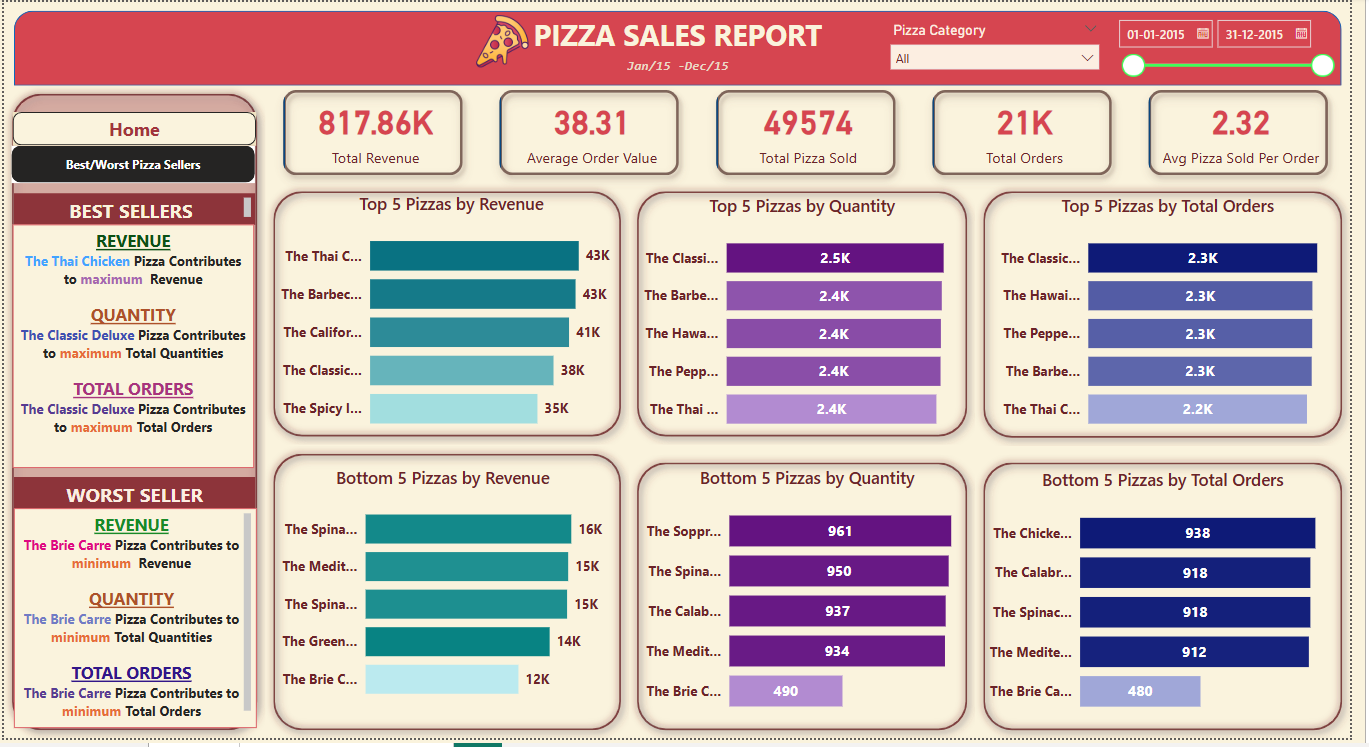

Layout of this report page (visuals, bound fields, positions):
{"tool":"powerbi","page":{"name":"Best/Worst Pizza Sellers","canvas":[1500,820],"ordinal":1},"visuals":[{"type":"shape","box":[11.1,9.7,1479,83.6],"z":0},{"type":"textbox","box":[523.6,9.7,454,58.5],"z":1000},{"type":"image","box":[491.6,9.7,126.7,68.2],"z":2000},{"type":"textbox","box":[604.4,57.1,292.5,43.2],"z":3000},{"type":"cardVisual","fields":{"Data":["pizza_sales.Total Revenue","pizza_sales.Average Order Value","pizza_sales.Total Pizza Sold","pizza_sales.Total Orders","pizza_sales.Avg Pizza Sold Per Order"]},"box":[291.1,78,1208.8,135.1],"z":4000},{"type":"shape","box":[291.1,201.9,405.3,291.1],"z":5000},{"type":"shape","box":[0,93.3,291.1,727],"z":6000},{"type":"textbox","box":[11.1,213.1,268.8,34.8],"z":7000},{"type":"textbox","box":[9.7,247.9,268.8,271.6],"z":8000},{"type":"textbox","box":[11.1,529.2,268.8,46],"z":9000},{"type":"textbox","box":[11.1,564,270.2,245.1],"z":10000},{"type":"slicer","fields":{"Values":["pizza_sales.pizza_category"]},"box":[977.7,18.1,252.1,59.9],"z":11000},{"type":"slicer","fields":{"Values":["pizza_sales.order_date"]},"box":[1229.7,9.7,260.4,105.8],"z":12000},{"type":"shape","box":[696.3,201.9,385.8,291.1],"z":13000},{"type":"shape","box":[1082.1,201.9,417.8,292.5],"z":14000},{"type":"shape","box":[291.1,494.4,405.3,325.9],"z":15000},{"type":"shape","box":[696.3,504.1,385.8,316.1],"z":16000},{"type":"shape","box":[1082.1,504.1,417.8,316.1],"z":17000},{"type":"barChart","title":"Top 5 Pizzas by Revenue","fields":{"Category":["pizza_sales.pizza_name"],"Y":["pizza_sales.Total Revenue"]},"box":[291.1,211.7,415,281.3],"z":18000},{"type":"barChart","title":"Bottom 5 Pizzas by Revenue","fields":{"Category":["pizza_sales.pizza_name"],"Y":["pizza_sales.Total Revenue"]},"box":[291.1,516.7,395.5,277.1],"z":19000},{"type":"barChart","title":"Top 5 Pizzas by Quantity","fields":{"Category":["pizza_sales.pizza_name"],"Y":["pizza_sales.Total Pizza Sold"]},"box":[696.3,214.5,385.8,278.5],"z":20000},{"type":"barChart","title":"Bottom 5 Pizzas by Quantity","fields":{"Category":["pizza_sales.pizza_name"],"Y":["pizza_sales.Total Pizza Sold"]},"box":[696.3,516.7,396.9,292.5],"z":21000},{"type":"barChart","title":"Top 5 Pizzas by Total Orders","fields":{"Category":["pizza_sales.pizza_name"],"Y":["pizza_sales.Total Orders"]},"box":[1093.2,214.5,406.7,278.5],"z":22000},{"type":"barChart","title":"Bottom 5 Pizzas by Total Orders","fields":{"Category":["pizza_sales.pizza_name"],"Y":["pizza_sales.Total Orders"]},"box":[1082.1,519.5,417.8,289.7],"z":23000},{"type":"pageNavigator","box":[11.1,160.2,268.8,41.8],"z":24000},{"type":"pageNavigator","box":[11.1,122.6,270.2,37.6],"z":25000}]}

Visuals, with their boxes in screenshot pixels (x1, y1, x2, y2), scaled from the page's 1500x820 canvas onto the 1369x747 screenshot:
shape: Rect(10, 9, 1360, 85)
textbox: Rect(478, 9, 892, 62)
image: Rect(449, 9, 564, 71)
textbox: Rect(552, 52, 819, 91)
cardVisual - pizza_sales.Total Revenue x pizza_sales.Average Order Value: Rect(266, 71, 1368, 194)
shape: Rect(266, 184, 636, 449)
shape: Rect(0, 85, 266, 746)
textbox: Rect(10, 194, 255, 226)
textbox: Rect(9, 226, 254, 473)
textbox: Rect(10, 482, 255, 524)
textbox: Rect(10, 514, 257, 737)
slicer - pizza_sales.pizza_category: Rect(892, 16, 1122, 71)
slicer - pizza_sales.order_date: Rect(1122, 9, 1360, 105)
shape: Rect(635, 184, 988, 449)
shape: Rect(988, 184, 1368, 450)
shape: Rect(266, 450, 636, 746)
shape: Rect(635, 459, 988, 746)
shape: Rect(988, 459, 1368, 746)
"Top 5 Pizzas by Revenue" barChart: Rect(266, 193, 644, 449)
"Bottom 5 Pizzas by Revenue" barChart: Rect(266, 471, 627, 723)
"Top 5 Pizzas by Quantity" barChart: Rect(635, 195, 988, 449)
"Bottom 5 Pizzas by Quantity" barChart: Rect(635, 471, 998, 737)
"Top 5 Pizzas by Total Orders" barChart: Rect(998, 195, 1368, 449)
"Bottom 5 Pizzas by Total Orders" barChart: Rect(988, 473, 1368, 737)
pageNavigator: Rect(10, 146, 255, 184)
pageNavigator: Rect(10, 112, 257, 146)
